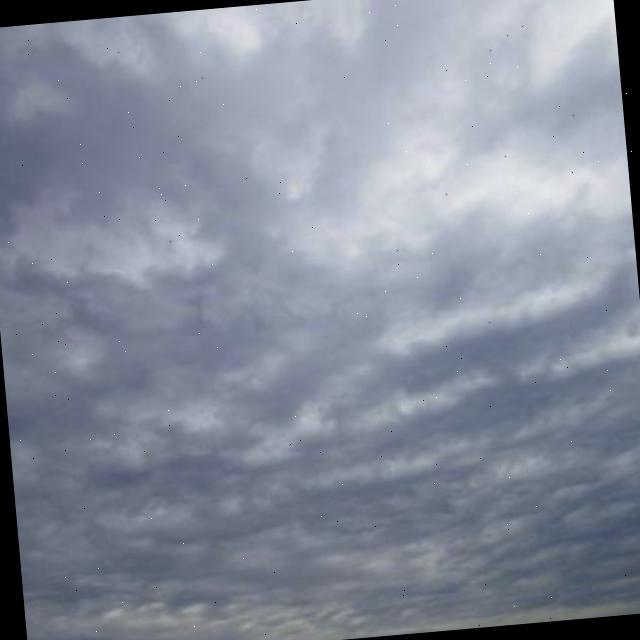As: (1, 4, 640, 635)
